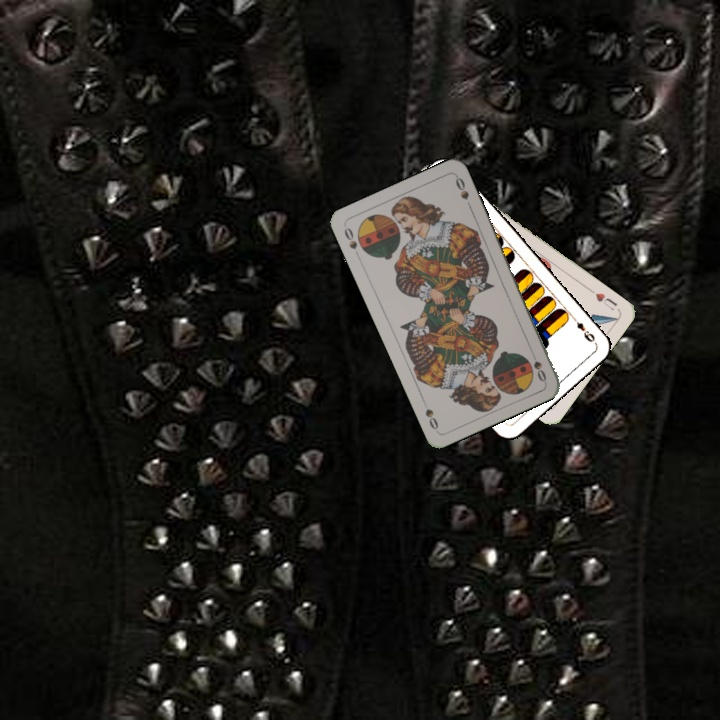E9: (568, 312, 597, 345)
HU: (585, 285, 620, 313)
SO: (526, 345, 549, 385), (340, 223, 362, 261)
